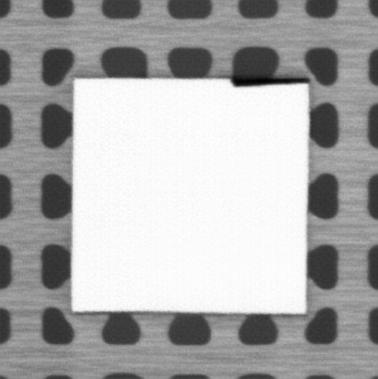DIE_BROKEN: (228, 74, 310, 87)
